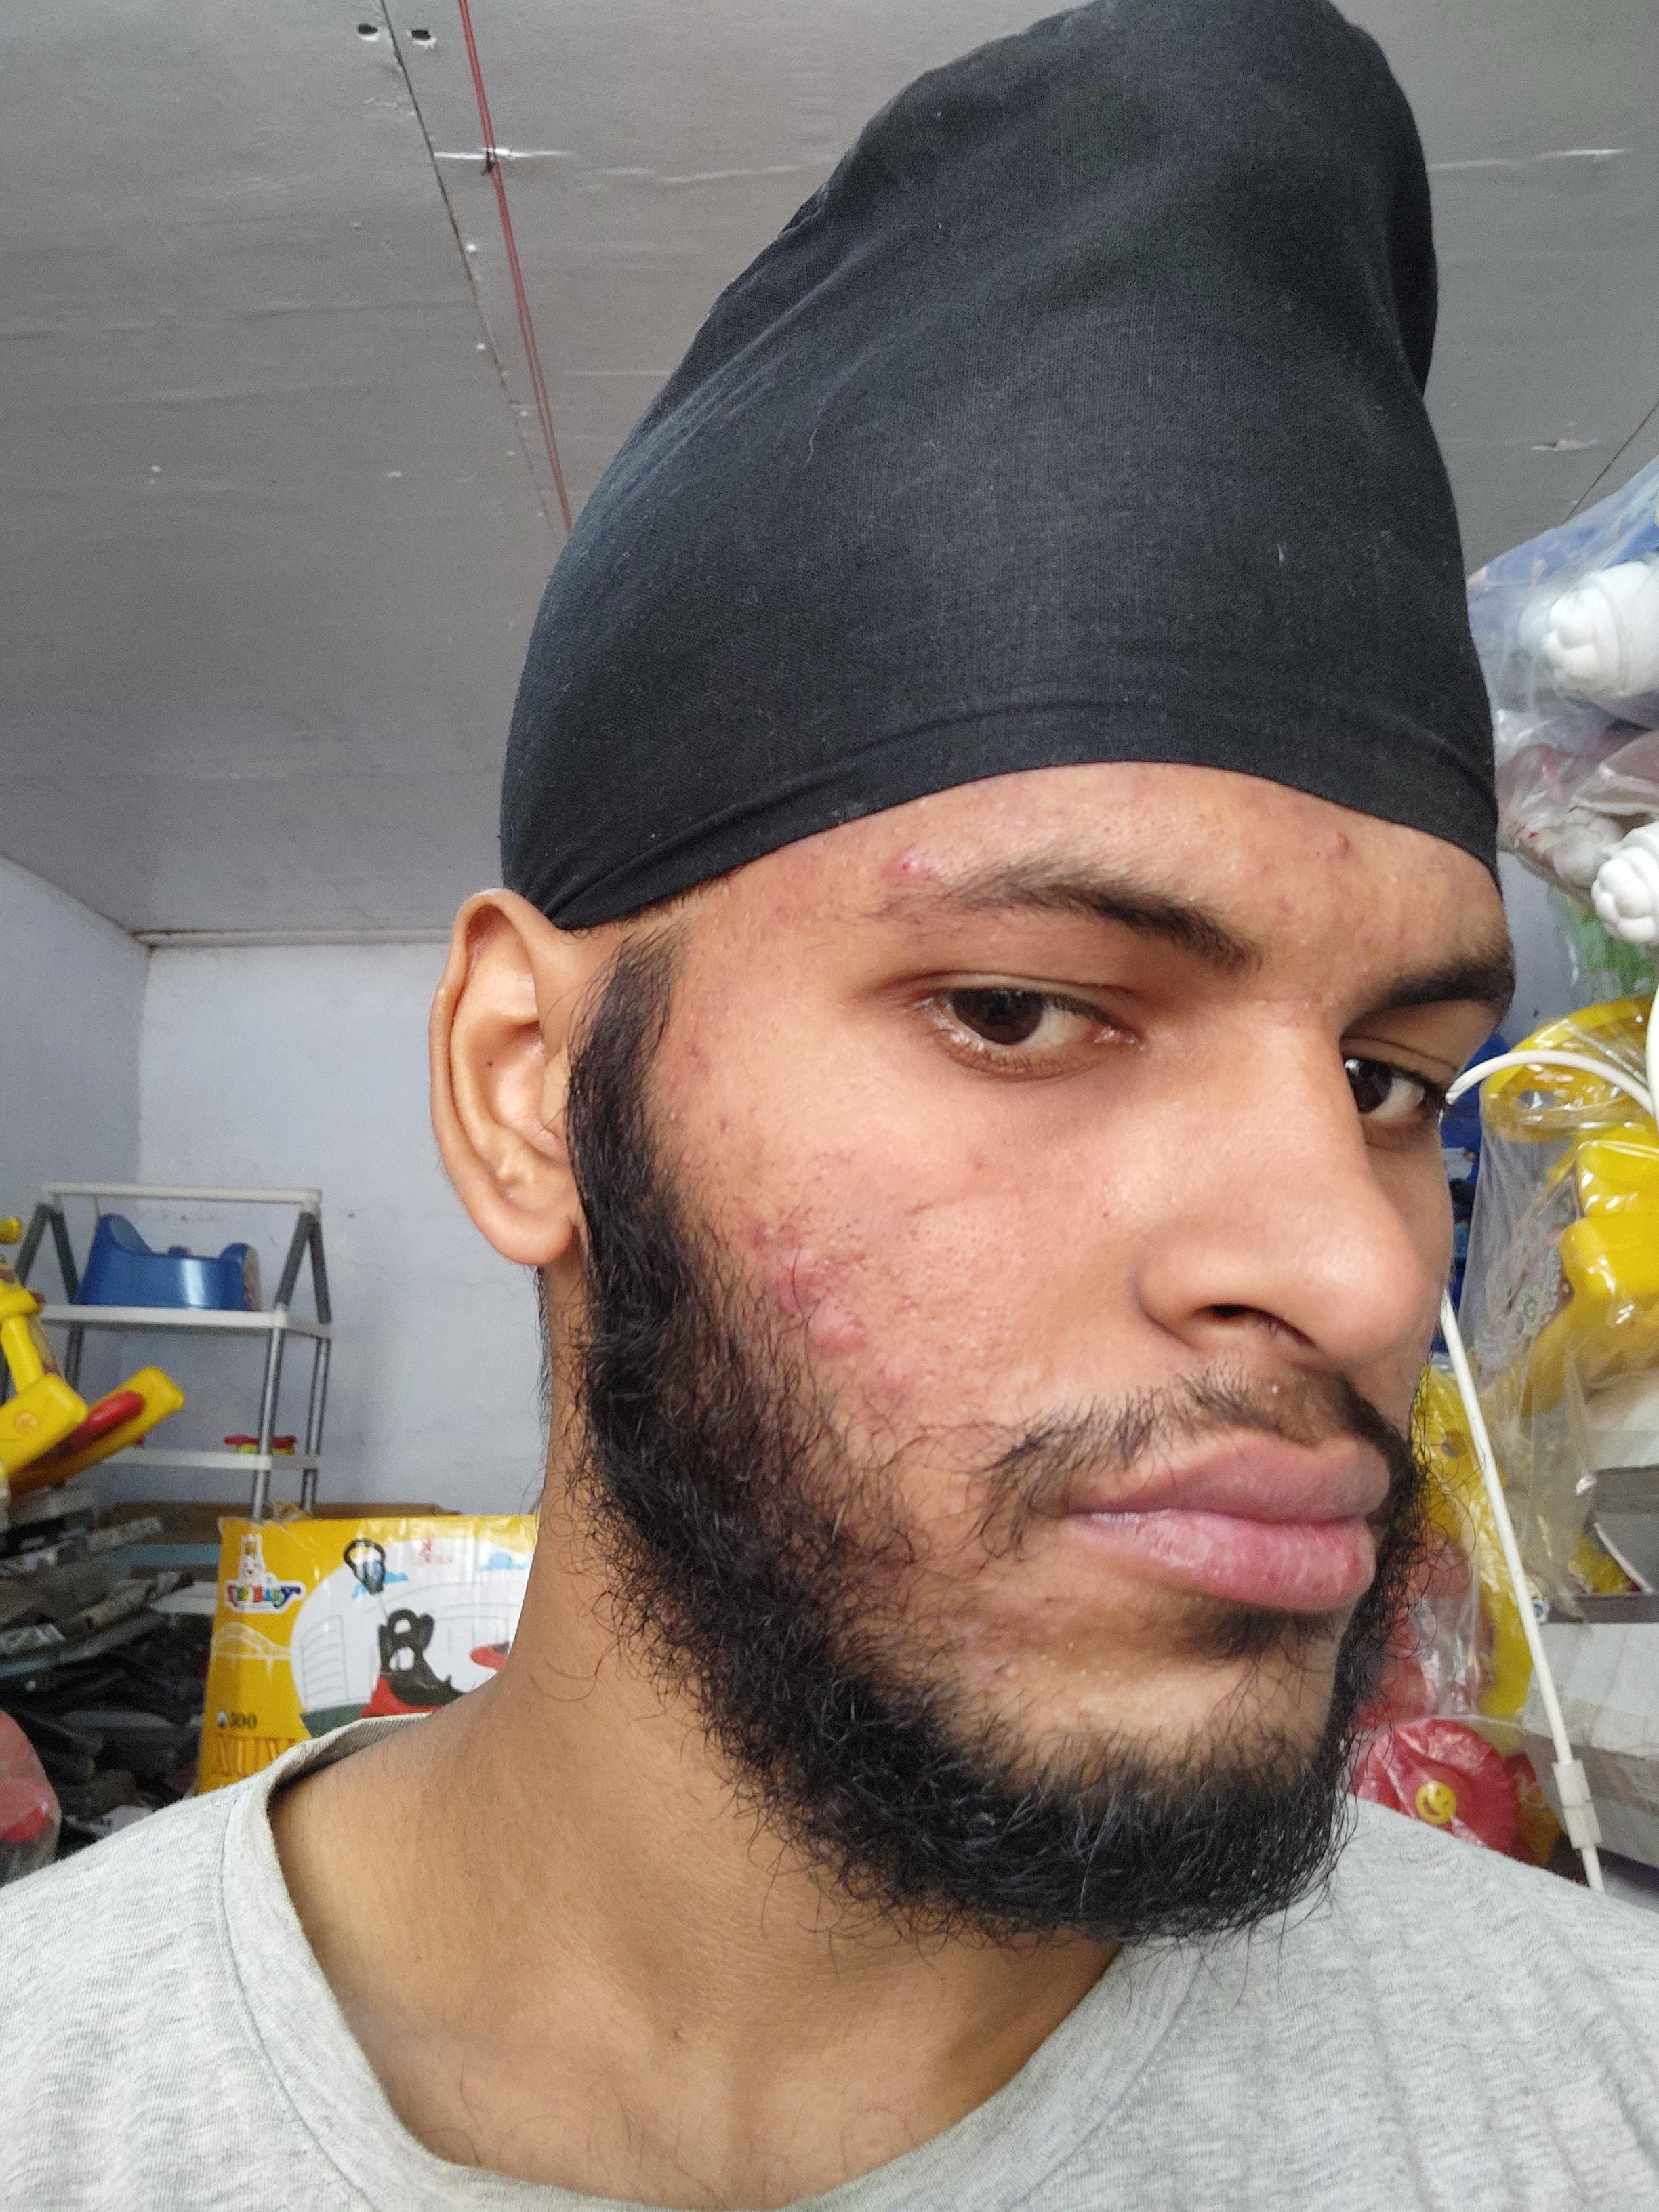Acne: (1035, 1632, 1117, 1686), (755, 1217, 814, 1291), (802, 1308, 861, 1359), (877, 1352, 931, 1406), (1316, 824, 1364, 873), (958, 1623, 992, 1674), (999, 1644, 1033, 1686), (885, 845, 924, 881), (1283, 995, 1328, 1022), (1297, 925, 1326, 963), (1246, 989, 1274, 1021), (1380, 866, 1410, 894), (1004, 817, 1037, 840), (1356, 960, 1380, 988), (1263, 1379, 1290, 1404), (664, 1104, 685, 1129)
Englarged-Pores: (856, 1174, 1098, 1378), (714, 881, 816, 942), (817, 846, 882, 897), (694, 1111, 751, 1151)
